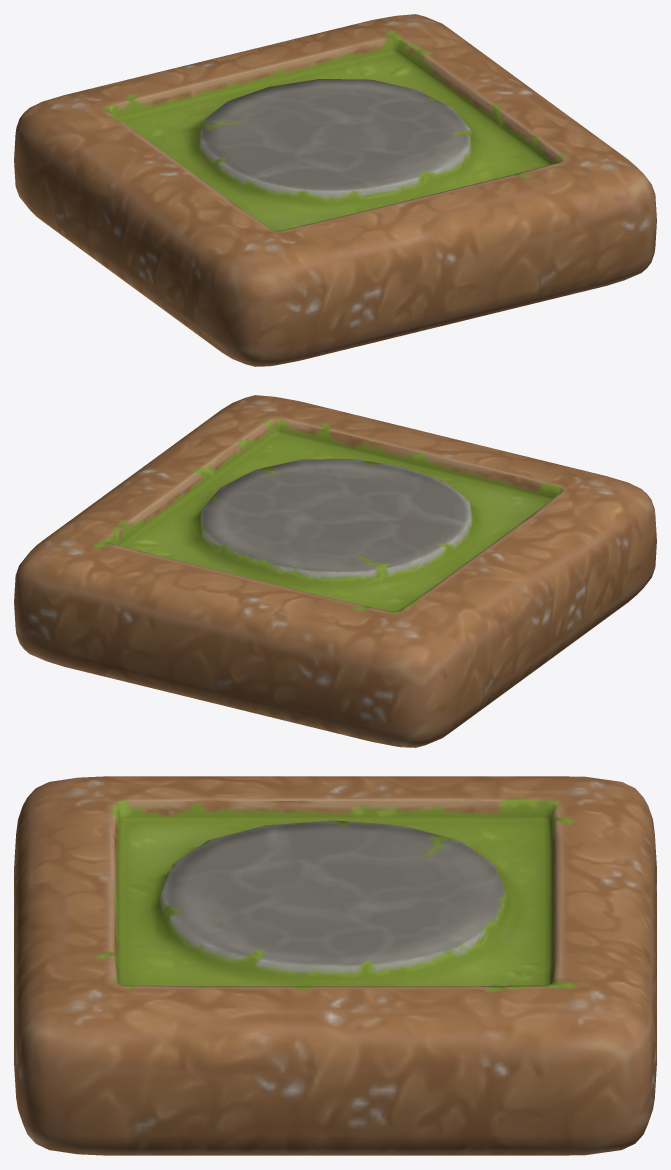
File: arena block 1.fbx
The picture shows the model from 3 angles, top to bottom: view 1: azimuth 30°, elevation 25°; view 2: azimuth 150°, elevation 25°; view 3: azimuth 270°, elevation 25°; orthographic projection. The views are drawn at different scales.
Parts seen in each view (by area): view 1: arena block 1 lp.002; view 2: arena block 1 lp.002; view 3: arena block 1 lp.002.
Part boxes in pixels (left/top/right/bottom): arena block 1 lp.002: left=14, top=14, right=656, bottom=366; arena block 1 lp.002: left=14, top=395, right=656, bottom=747; arena block 1 lp.002: left=14, top=776, right=656, bottom=1155.
Size of the model in its own units: 200 by 49.95 by 200.
